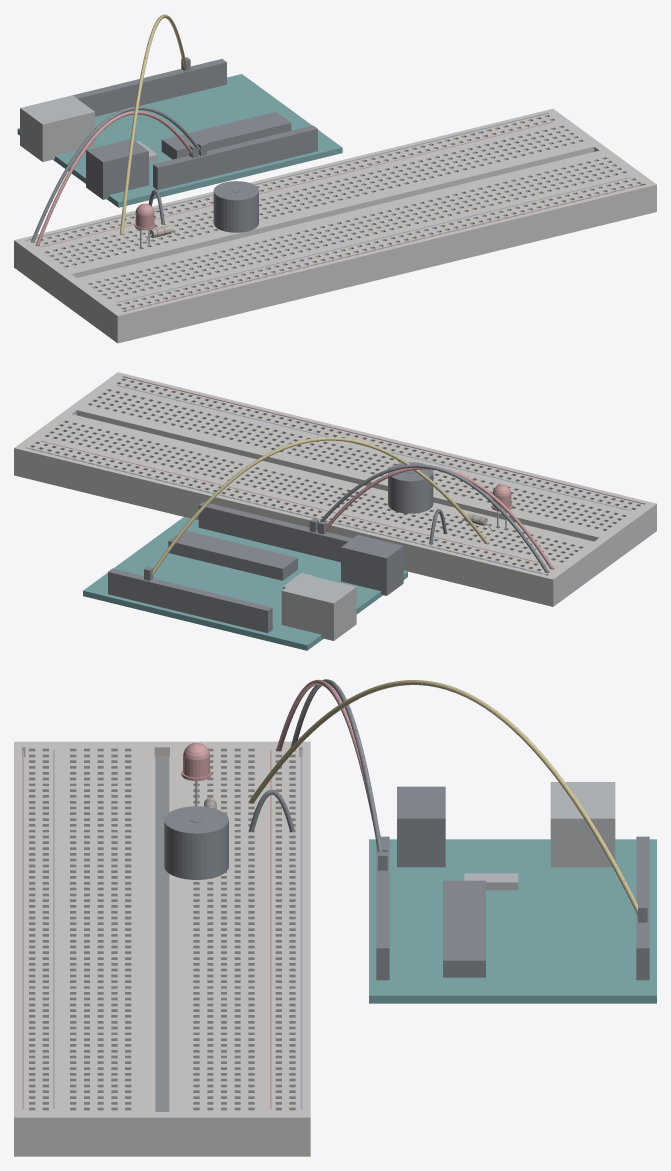
The model's file is step-7.glb.
3 renders of one model, top to bottom at view 1: azimuth 30°, elevation 25°; view 2: azimuth 150°, elevation 25°; view 3: azimuth 270°, elevation 25°, orthographic. The views are drawn at different scales.
Visible parts, largest first — view 1: breadboard_1__mesh, arduino_uno__mesh, buzzer_1__mesh, wire_led_sig__mesh, wire_main_gnd__mesh, wire_main_5v__mesh, led_red__mesh; view 2: breadboard_1__mesh, arduino_uno__mesh, buzzer_1__mesh, wire_led_sig__mesh, wire_main_gnd__mesh, wire_main_5v__mesh, led_red__mesh; view 3: breadboard_1__mesh, arduino_uno__mesh, buzzer_1__mesh, wire_led_sig__mesh, wire_main_gnd__mesh, led_red__mesh, wire_main_5v__mesh.
Part boxes in pixels (x1,y1,x2,y2): breadboard_1__mesh: [14, 108, 656, 343]; arduino_uno__mesh: [17, 59, 342, 207]; buzzer_1__mesh: [213, 181, 258, 232]; wire_led_sig__mesh: [120, 14, 190, 234]; wire_main_gnd__mesh: [31, 106, 206, 242]; wire_main_5v__mesh: [36, 111, 198, 245]; led_red__mesh: [134, 203, 155, 248]; breadboard_1__mesh: [14, 372, 656, 606]; arduino_uno__mesh: [83, 502, 407, 650]; buzzer_1__mesh: [388, 462, 433, 513]; wire_led_sig__mesh: [144, 437, 488, 580]; wire_main_gnd__mesh: [309, 464, 548, 572]; wire_main_5v__mesh: [318, 466, 553, 569]; led_red__mesh: [491, 484, 512, 529]; breadboard_1__mesh: [14, 741, 310, 1156]; arduino_uno__mesh: [369, 782, 656, 1003]; buzzer_1__mesh: [164, 806, 228, 879]; wire_led_sig__mesh: [249, 680, 647, 922]; wire_main_gnd__mesh: [291, 679, 387, 870]; led_red__mesh: [181, 743, 211, 806]; wire_main_5v__mesh: [276, 679, 387, 851].
Size of the model in its own units: 0.165 by 0.0463 by 0.1192.
